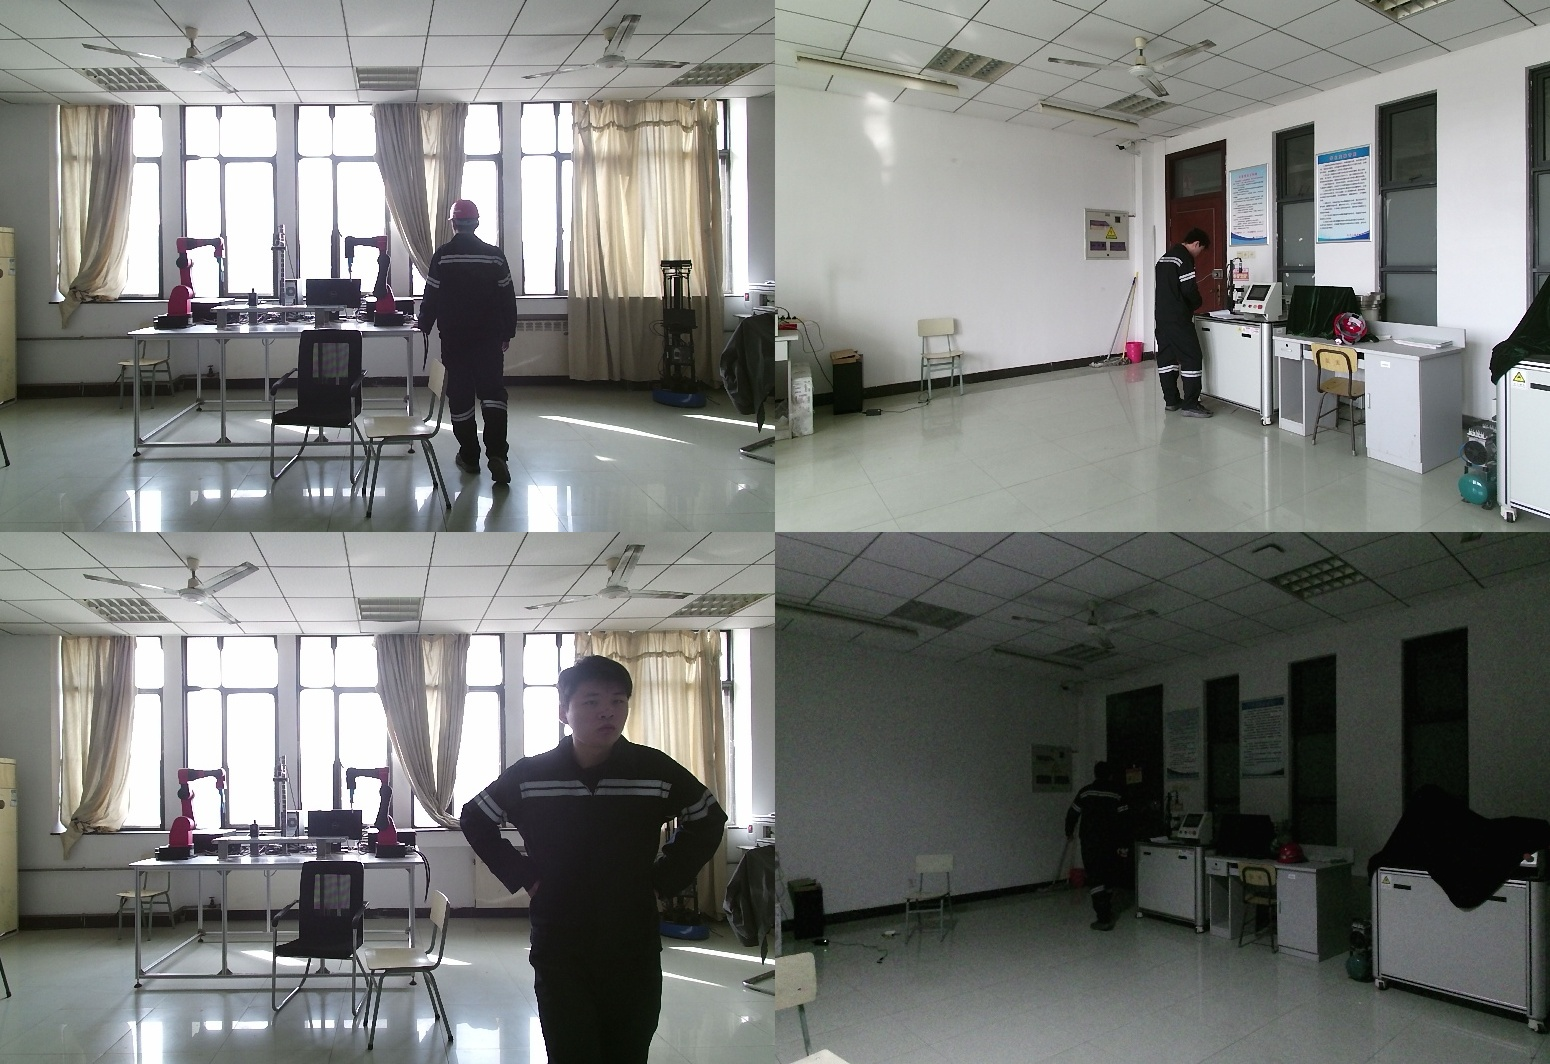person: (472, 660, 737, 1064), (422, 200, 527, 514), (1064, 764, 1138, 943), (1156, 231, 1215, 428)
